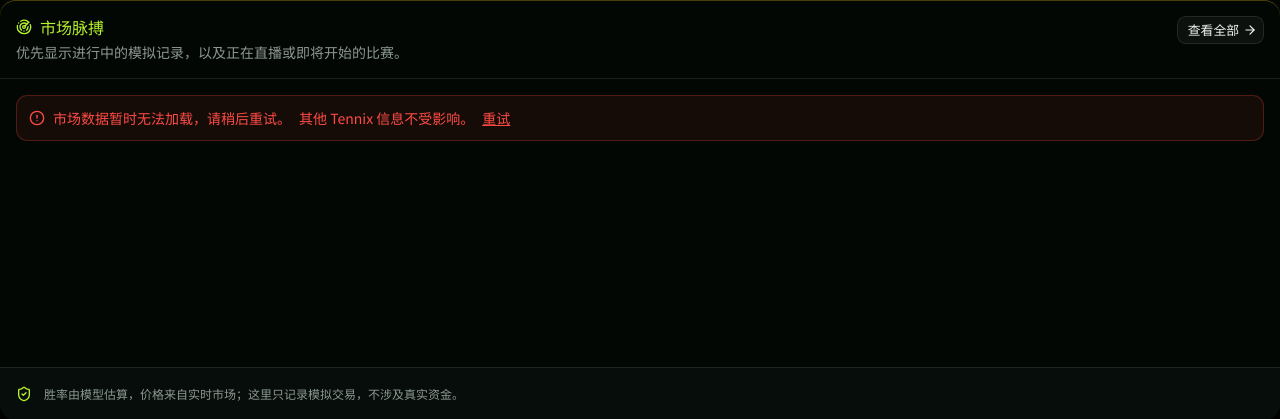
LiveMarketPulse › shows an honest typed error with retry on transport failure
Check: the message "市场数据暂时无法加载，请稍后重试。 其他 Tennix 信息不受影响。 重试" is shown, box [16,95,1264,141]
Check: the text "市场数据暂时无法加载，请稍后重试。" is shown, box [53,108,291,128]
Click the button "重试": (496,118) [482,108,510,128]
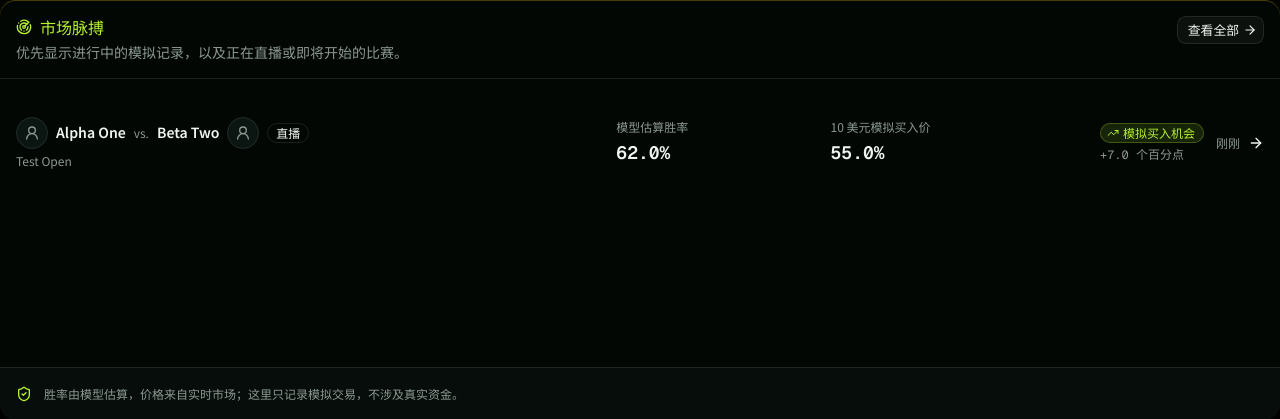
Check: the text "Alpha One" is shown, box [56,124,126,142]
Check: the text "Beta Two" is shown, box [157,124,219,142]
